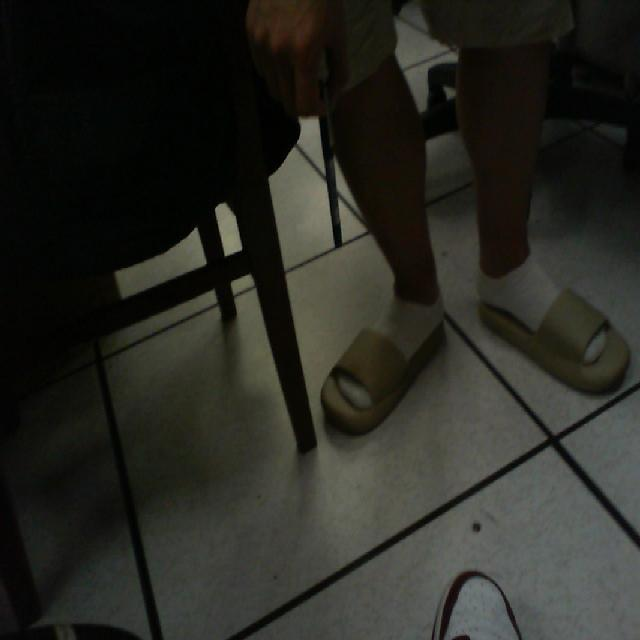Pen: (305, 56, 350, 252)
